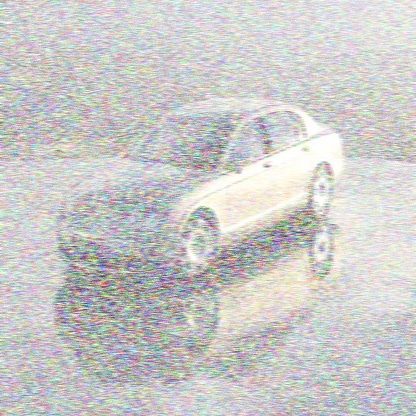Vehicle: (58, 98, 344, 283)
